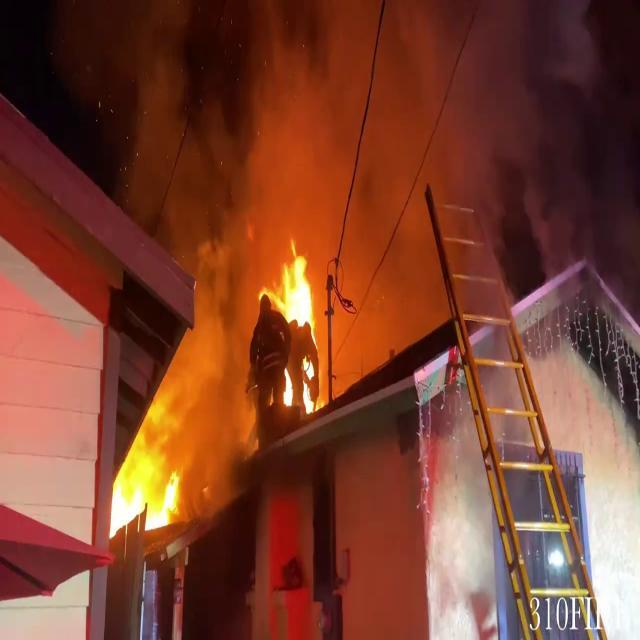Fire: (268, 236, 328, 416), (104, 411, 188, 536)
Smoke: (131, 0, 580, 307)
